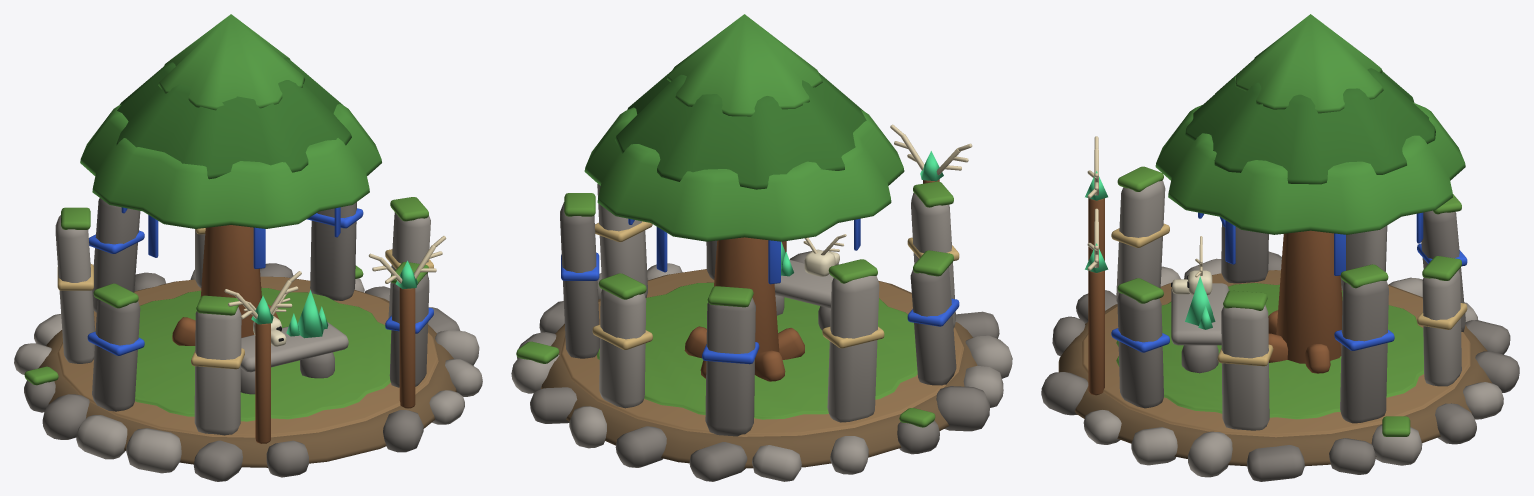
The model's file is Sanctum.glb.
3 views of the same model, side by side, from view 1: azimuth 30°, elevation 25°; view 2: azimuth 150°, elevation 25°; view 3: azimuth 270°, elevation 25° (orthographic). The views are drawn at different scales.
Parts seen in each view (by area): view 1: Sanctum; view 2: Sanctum; view 3: Sanctum.
Part boxes in pixels (x1=…): Sanctum: x1=14, y1=14, x2=482, y2=481; Sanctum: x1=511, y1=14, x2=1012, y2=481; Sanctum: x1=1041, y1=14, x2=1519, y2=481.
Size of the model in its own units: 3.53 by 2.98 by 3.47.
